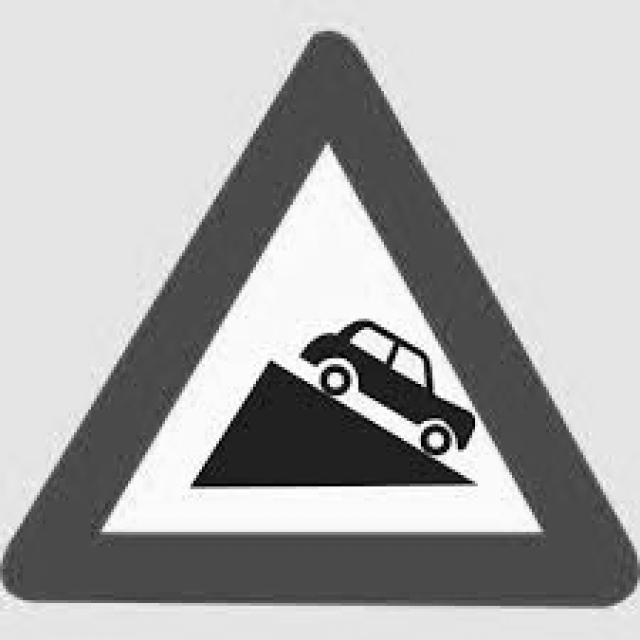steep descent: (17, 30, 624, 603)
